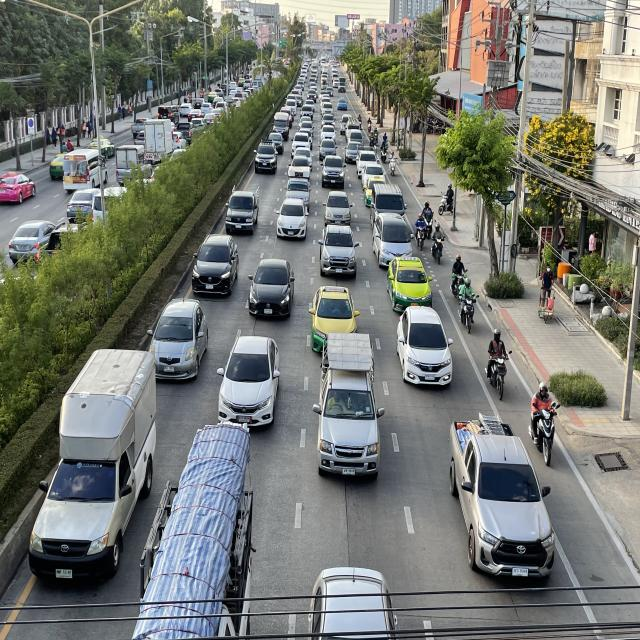bike: (528, 374, 561, 466), (484, 325, 513, 402), (458, 276, 477, 336), (450, 253, 465, 298), (430, 223, 444, 266), (414, 212, 427, 252), (423, 200, 433, 239), (389, 150, 397, 176), (380, 139, 387, 164)
car: (445, 413, 559, 588), (307, 562, 400, 640), (215, 334, 282, 426), (146, 296, 208, 381), (396, 304, 454, 389), (309, 284, 360, 354), (247, 257, 295, 321), (192, 234, 238, 297), (386, 256, 433, 314), (318, 224, 360, 281), (275, 198, 310, 240)
truck: (28, 348, 157, 586), (132, 421, 255, 640), (314, 333, 386, 488), (224, 183, 259, 234)
